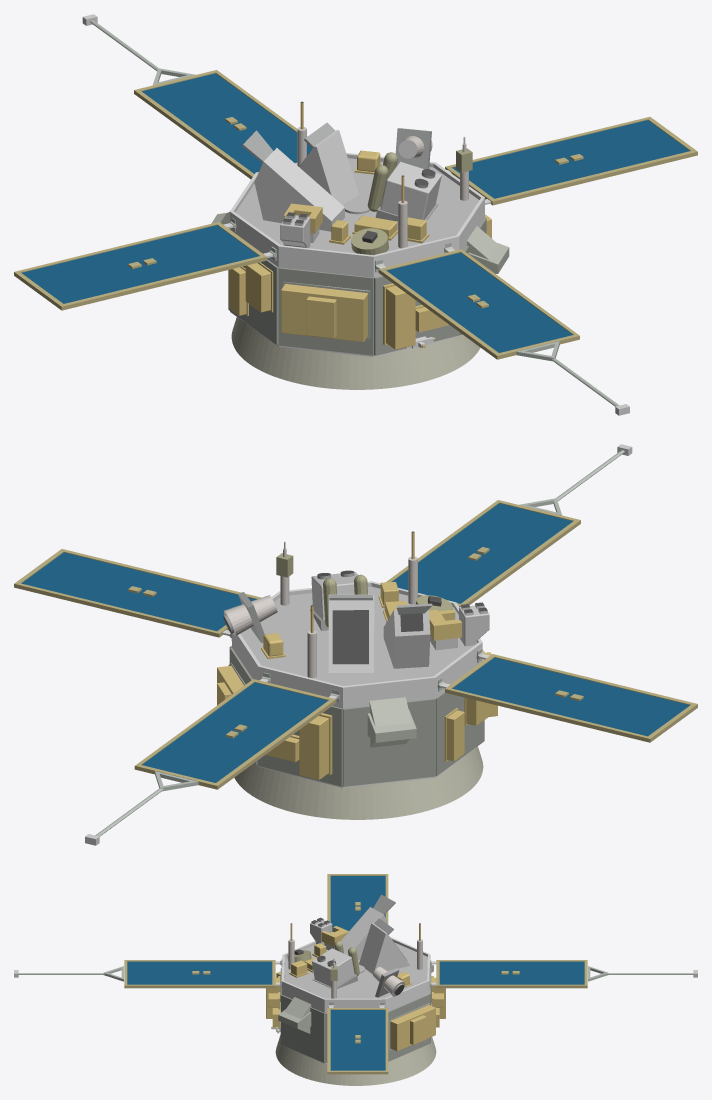
The model's file is space-advanced-composition-explorer.glb.
3 views of the same model, one above another, from view 1: azimuth 30°, elevation 25°; view 2: azimuth 150°, elevation 25°; view 3: azimuth 270°, elevation 25° (orthographic). The views are drawn at different scales.
Visible parts, largest first — view 1: Layer_0; view 2: Layer_0; view 3: Layer_0.
Part boxes in pixels (box(x1,y1,x2,y2)): Layer_0: box(14, 14, 697, 415); Layer_0: box(14, 444, 697, 845); Layer_0: box(14, 874, 697, 1085).
Size of the model in its own units: 922 by 278 by 1345.
2 materials, 2 textured.
